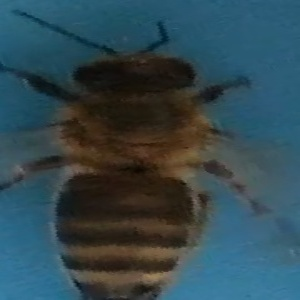bee: (2, 9, 268, 300)
